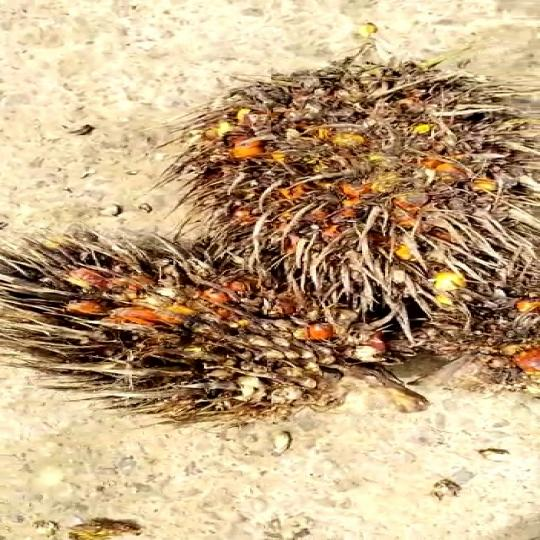terlalu masak: (171, 60, 540, 278), (0, 242, 357, 417)
